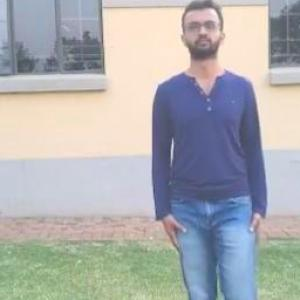follow: (150, 6, 265, 282)
